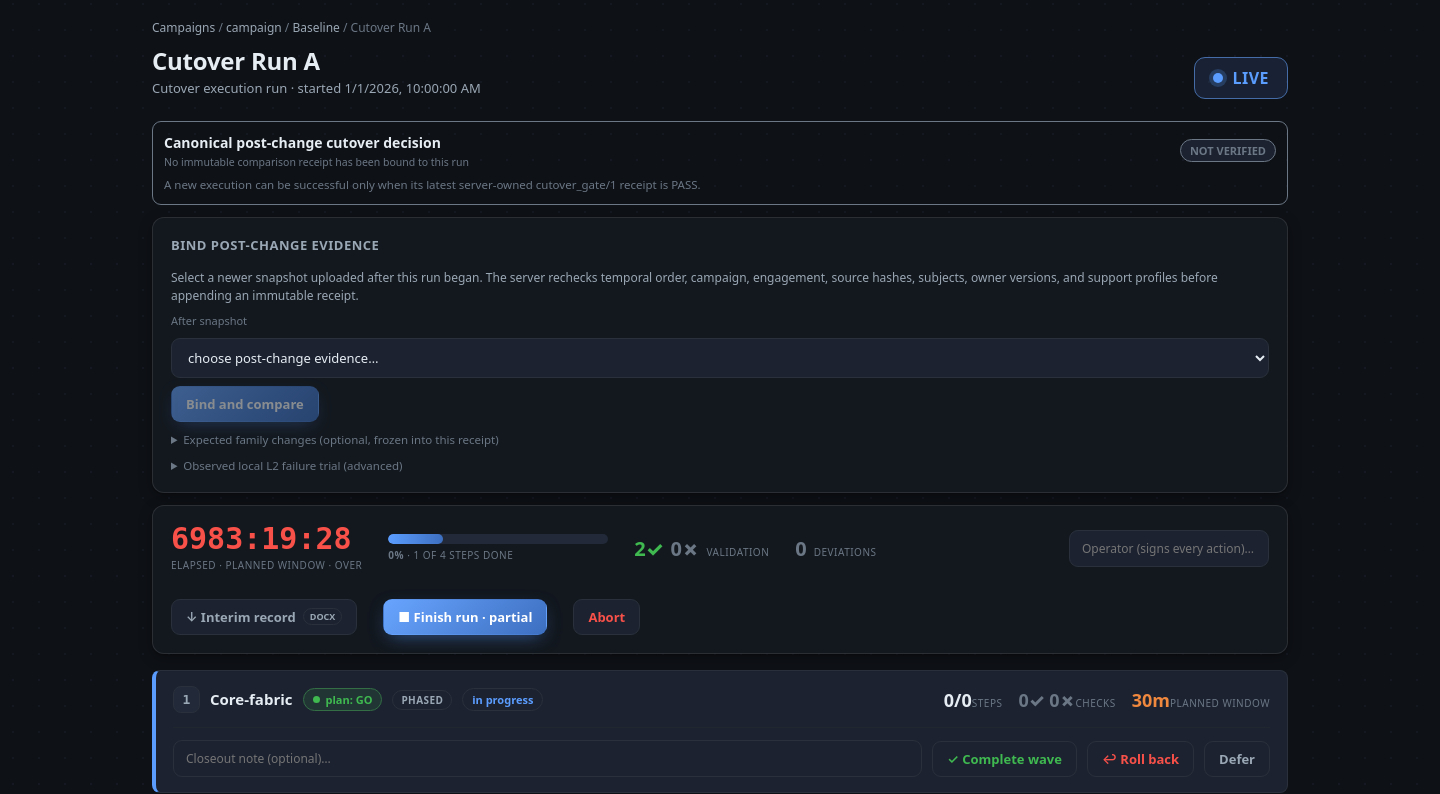
Scenario: ExecutionPage · immutable post-change comparison › binds a same-campaign after snapshot and renders the returned canonical receipt
This screenshot has width=1440, height=794.
Expected: the element with test id "execution-canonical-gate-missing" shows "NOT VERIFIED", [1190, 143, 1266, 158]
Select "Post-change · snapshot 8" in the dropdown labelled "After snapshot": (720, 358) [171, 338, 1269, 378]
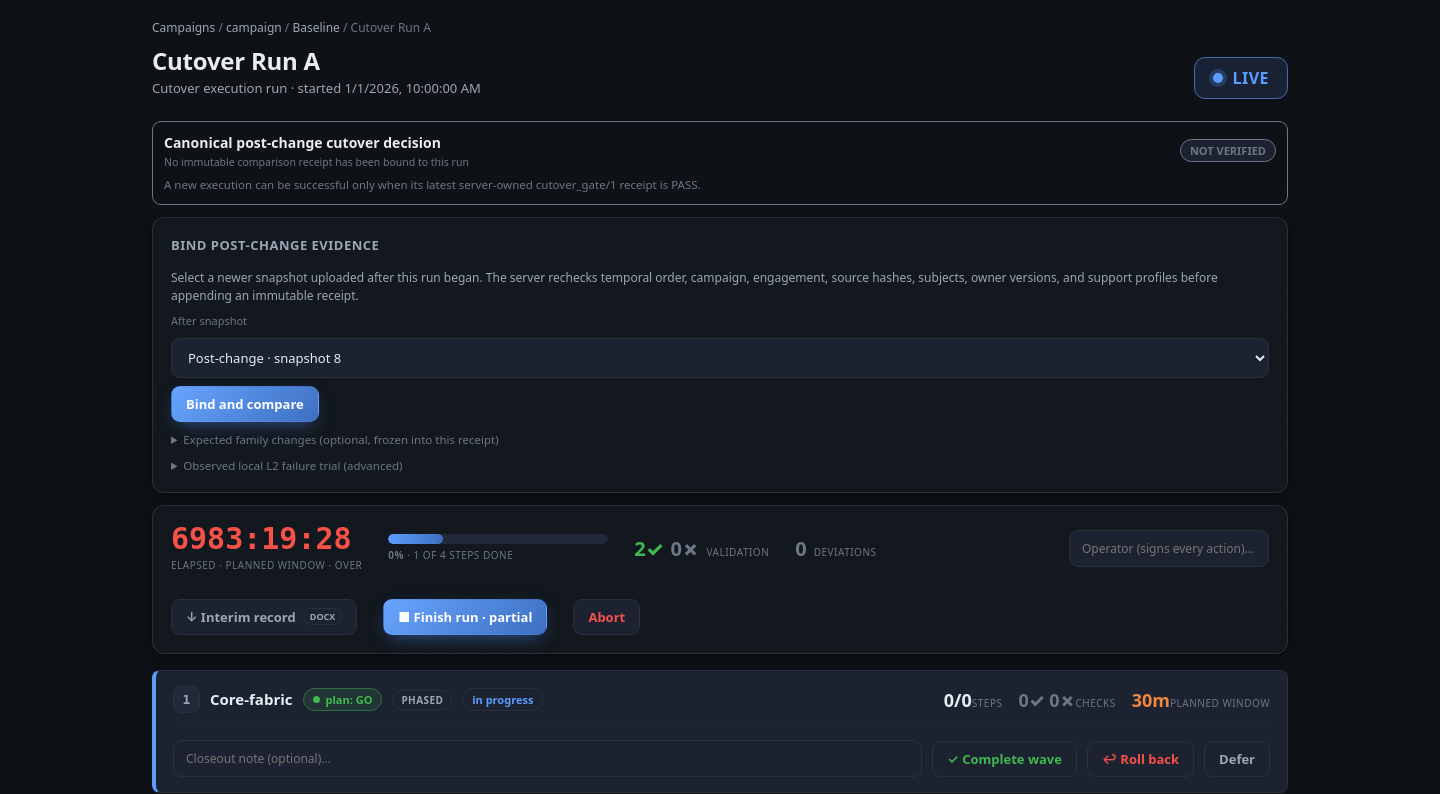
Click the button "Bind and compare": (245, 404) [171, 386, 319, 422]
(page scrolled)
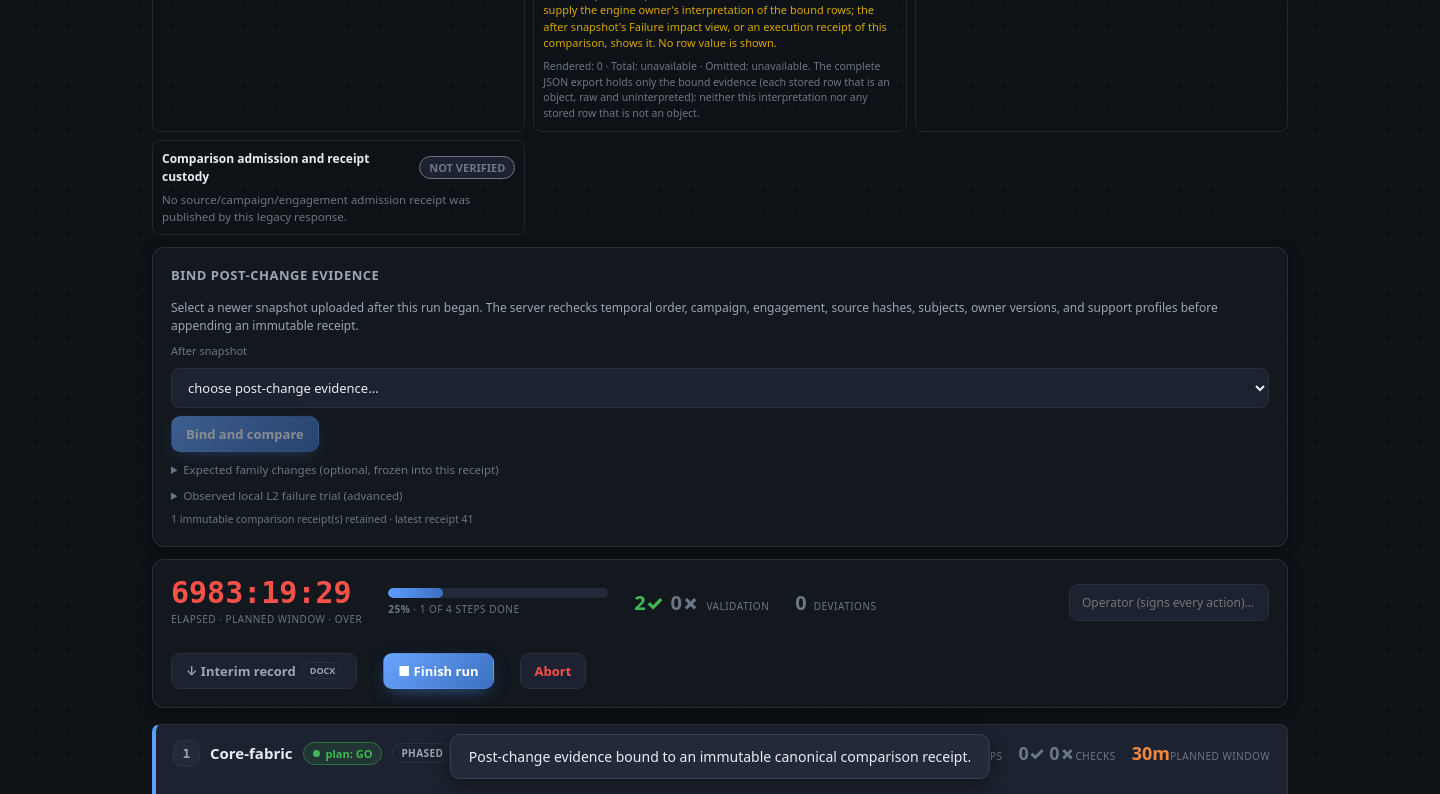
Now the element with test id "execution-canonical-gate-missing" is gone
Now the element with test id "execution-compare-form" shows "1 immutable comparison receipt", box [152, 247, 1288, 547]
